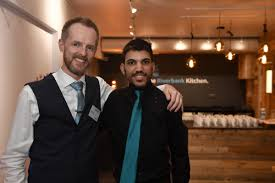Bad: (2, 17, 190, 183)
